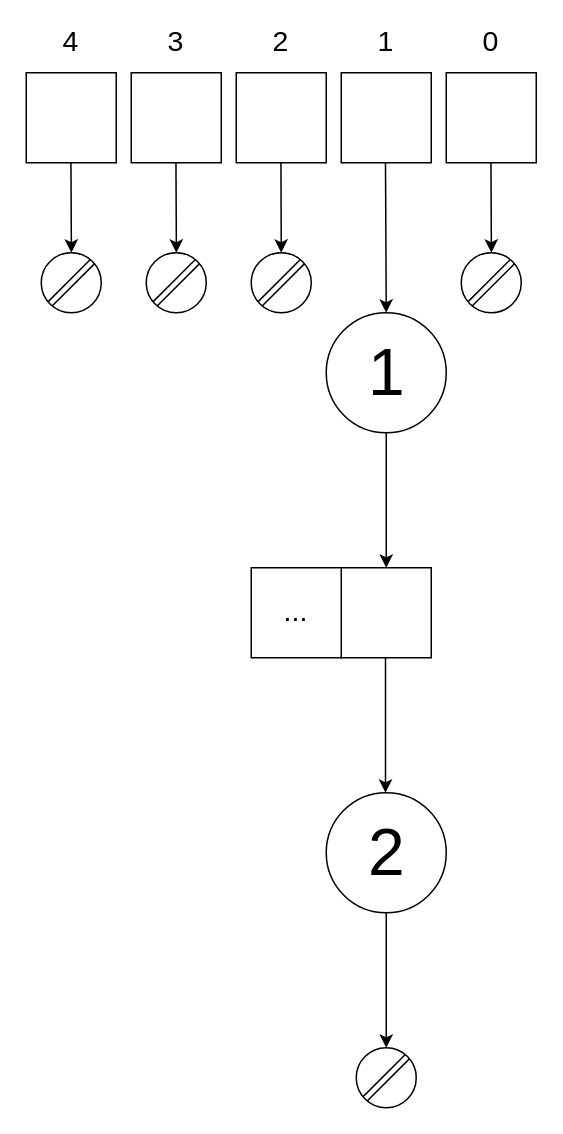
This 563x1134 diagram has some shape labels left out. Each missing label, with the centre of its shape:
"0x1" belongs at pixel 385 612.
"0xa" belongs at pixel 385 117.
